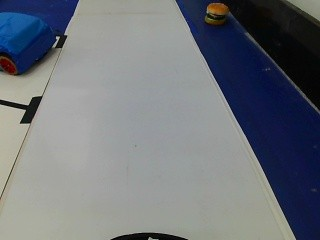burger: (199, 0, 231, 26)
